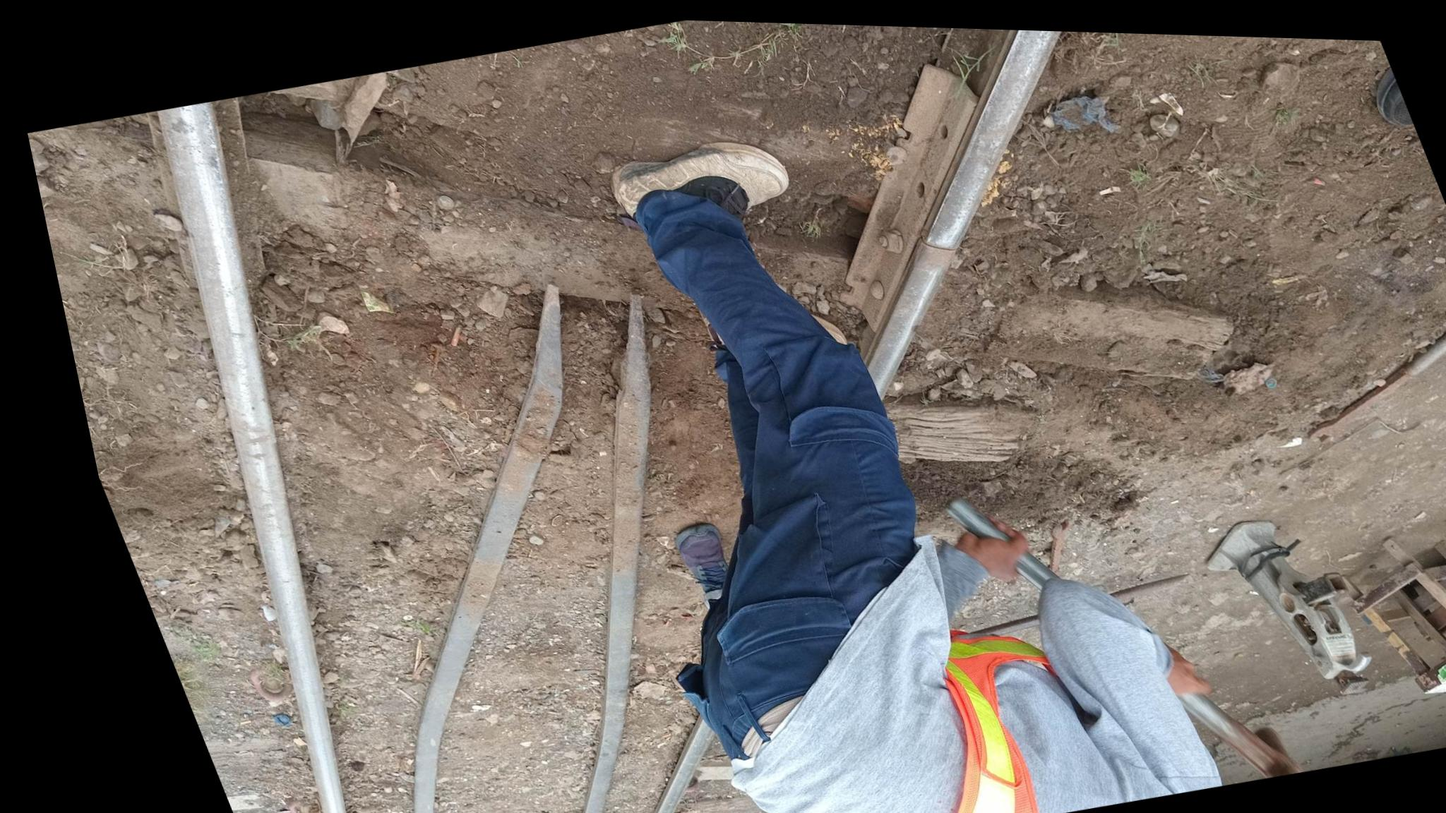person: (876, 203, 981, 284)
